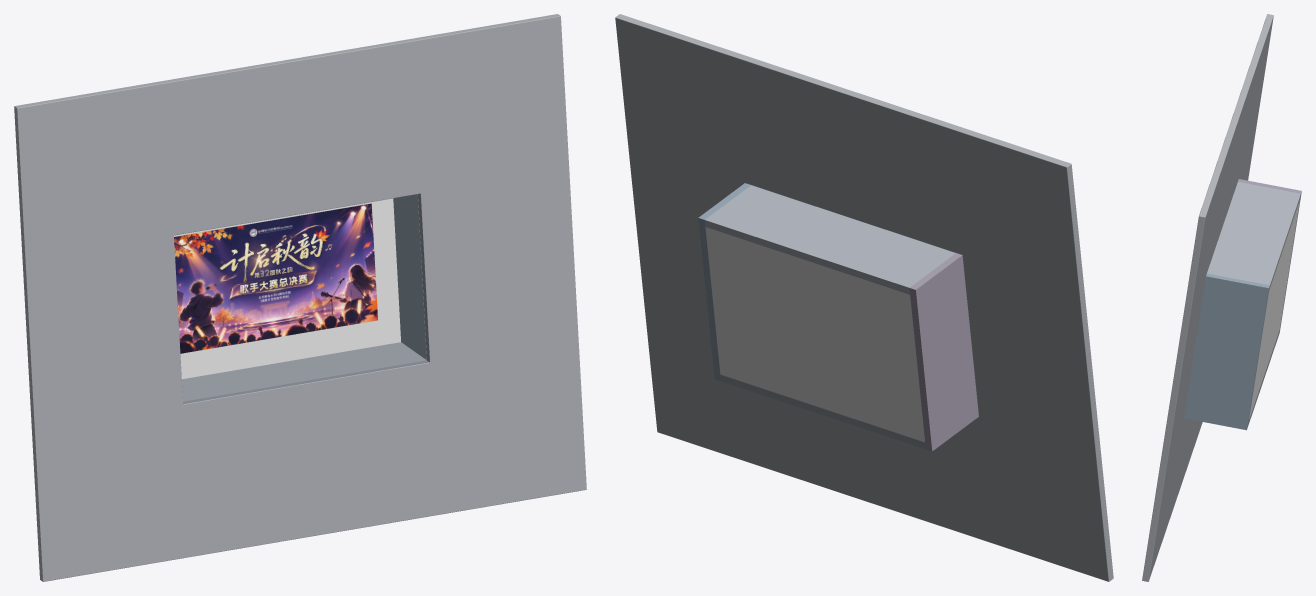
The picture shows the model from 3 angles, left to right: view 1: azimuth 30°, elevation 25°; view 2: azimuth 150°, elevation 25°; view 3: azimuth 270°, elevation 25°; orthographic projection. The views are drawn at different scales.
Parts seen in each view (by area): view 1: Building facade · continuous solid wall with excavated openi, Original poster · complete unmodified rectangle, Excavated room · REAR wall, Excavated room · FLOOR, Excavated room · RIGHT wall; view 2: Building facade · continuous solid wall with excavated openi, Excavated room · REAR wall, Excavated room · CEILING, Excavated room · LEFT wall, Excavated room · FLOOR, Excavated room · RIGHT wall; view 3: Building facade · continuous solid wall with excavated openi, Excavated room · RIGHT wall, Excavated room · CEILING, Excavated room · REAR wall, Excavated room · LEFT wall.
Part boxes in pixels (x1,y1,x2,y2): Building facade · continuous solid wall with excavated openi: [14, 14, 586, 581]; Original poster · complete unmodified rectangle: [174, 203, 377, 353]; Excavated room · REAR wall: [174, 198, 400, 379]; Excavated room · FLOOR: [182, 342, 426, 401]; Excavated room · RIGHT wall: [393, 194, 426, 359]; Building facade · continuous solid wall with excavated openi: [615, 14, 1113, 581]; Excavated room · REAR wall: [705, 227, 924, 442]; Excavated room · CEILING: [704, 185, 955, 294]; Excavated room · LEFT wall: [909, 253, 978, 451]; Excavated room · FLOOR: [720, 374, 925, 449]; Excavated room · RIGHT wall: [698, 183, 750, 381]; Building facade · continuous solid wall with excavated openi: [1142, 14, 1273, 581]; Excavated room · RIGHT wall: [1184, 273, 1269, 430]; Excavated room · CEILING: [1207, 182, 1300, 290]; Excavated room · REAR wall: [1249, 201, 1299, 419]; Excavated room · LEFT wall: [1238, 179, 1301, 334].
Bounding box in the file's own units: 22.75 × 19 × 7.46.
9 materials, 1 textured.
